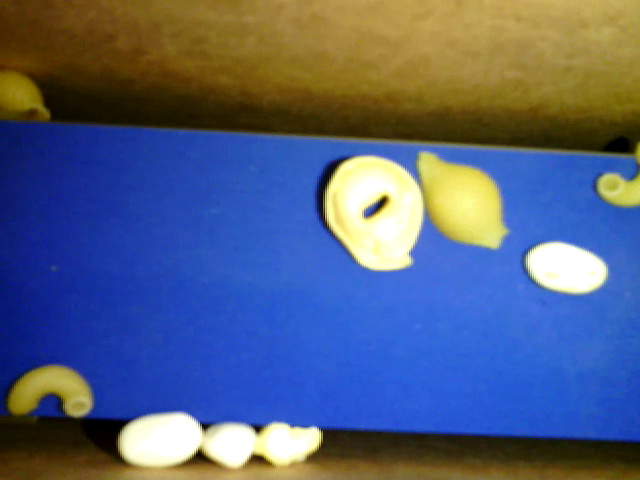elbow: (10, 363, 90, 418), (598, 170, 635, 208)
shell: (418, 151, 509, 249), (3, 70, 58, 124)
tortellini: (320, 151, 425, 271)
